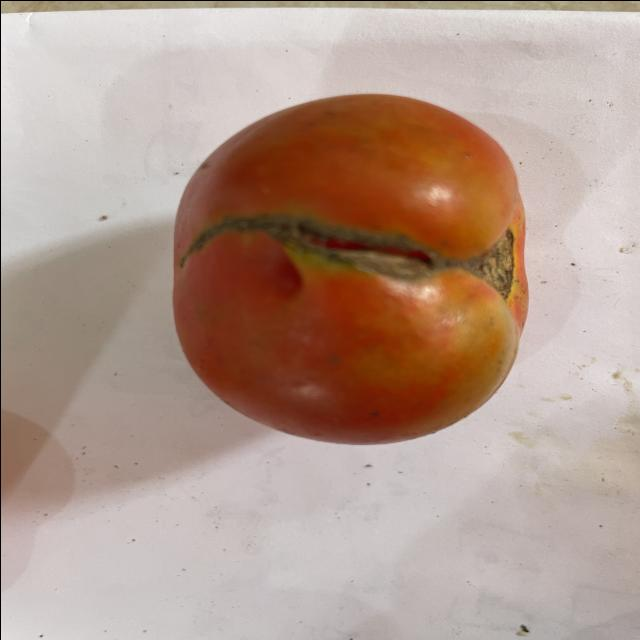tomato_cracking: (178, 211, 476, 286)
